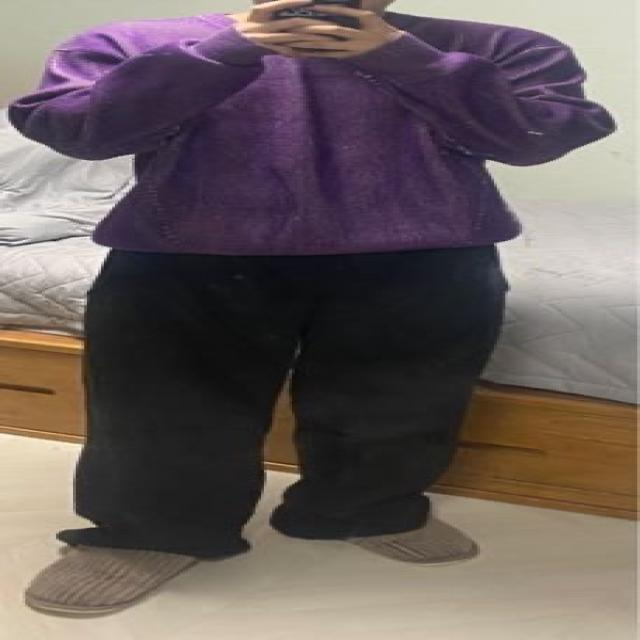mtm: (21, 4, 609, 269)
slacks: (77, 241, 503, 540)
